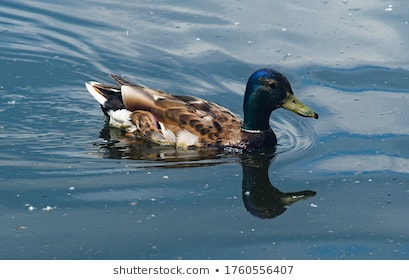duck: (67, 60, 331, 160), (228, 157, 330, 214)
